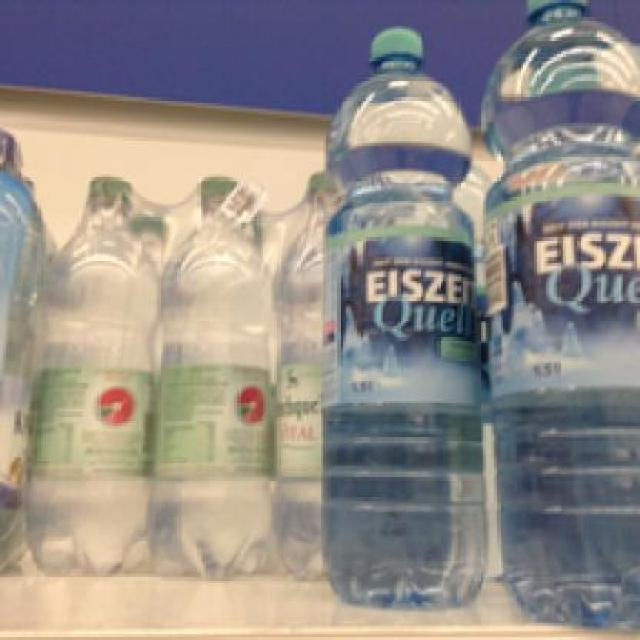Water: (477, 0, 634, 637), (320, 22, 489, 608), (11, 174, 160, 560), (148, 177, 274, 572)
